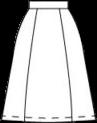Hemline: (1, 119, 96, 122)
Waistline: (28, 8, 68, 9), (28, 0, 67, 1)
